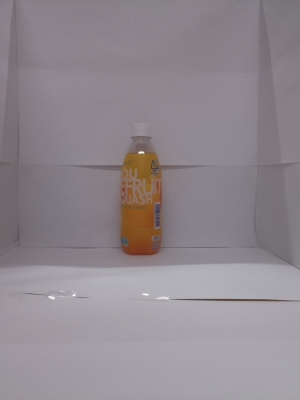グレープフルーツスカッシュ: (114, 119, 173, 262)
